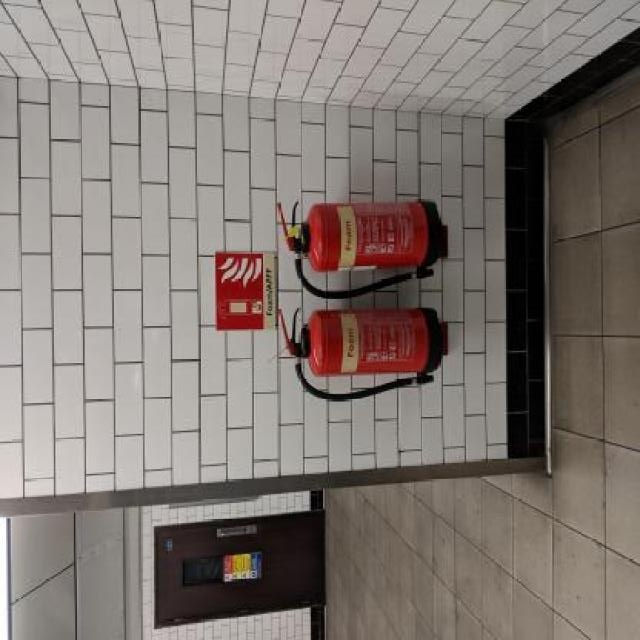fire extinguisher: (278, 184, 447, 299), (276, 301, 447, 405)
